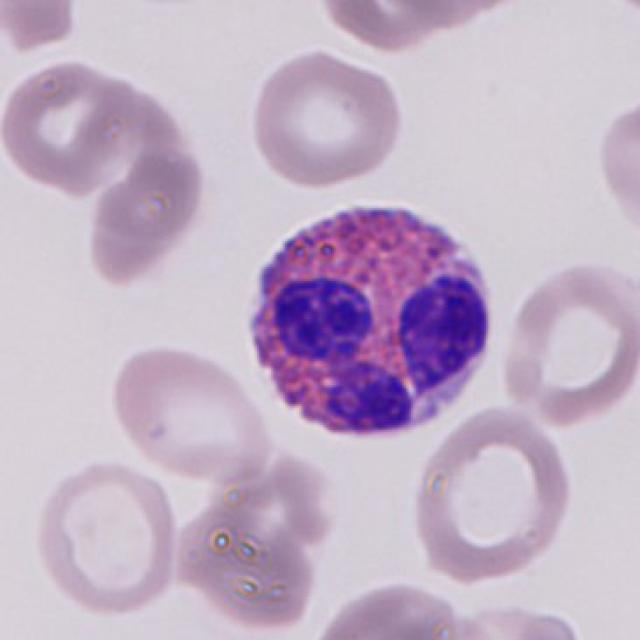Eosinophil: (236, 187, 504, 453)
RBC: (404, 401, 579, 588), (80, 83, 208, 295), (168, 472, 329, 638), (26, 453, 184, 619), (495, 253, 640, 432), (105, 338, 278, 484), (245, 45, 407, 191), (0, 55, 140, 196), (306, 576, 486, 640), (313, 0, 455, 54), (593, 88, 640, 244), (428, 600, 590, 640), (379, 0, 544, 33), (0, 0, 84, 56), (377, 0, 472, 24), (577, 0, 640, 23)
